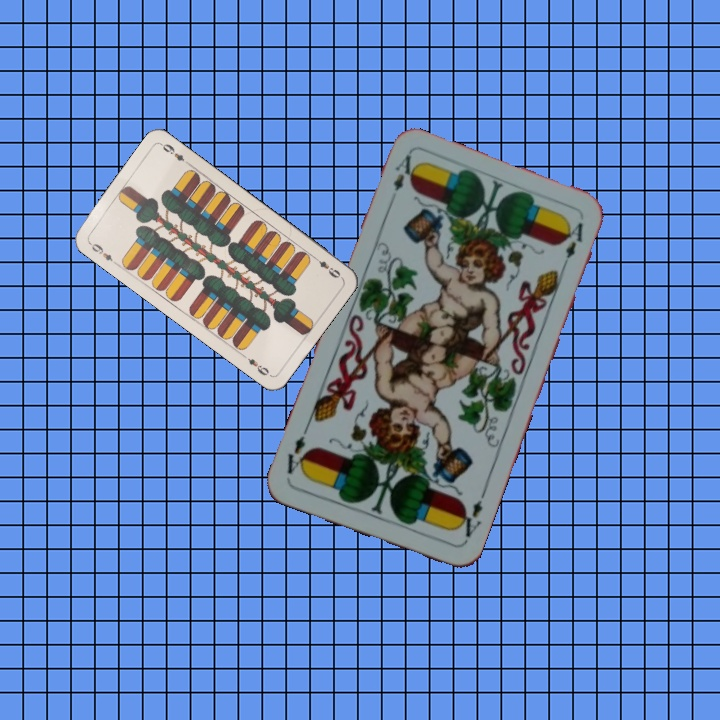E9: (85, 238, 120, 267), (309, 252, 343, 281)
EA: (452, 496, 485, 545), (389, 150, 418, 194)
